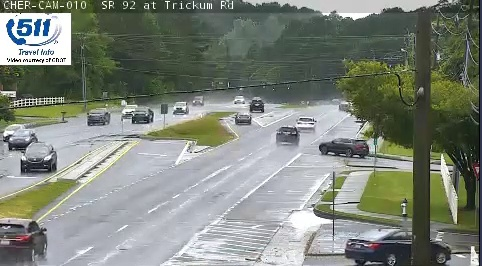car: (1, 217, 46, 254), (276, 126, 300, 143), (296, 116, 314, 131), (235, 111, 251, 123)
